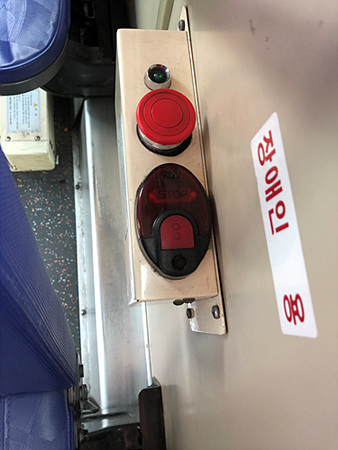bell: (135, 162, 218, 281)
